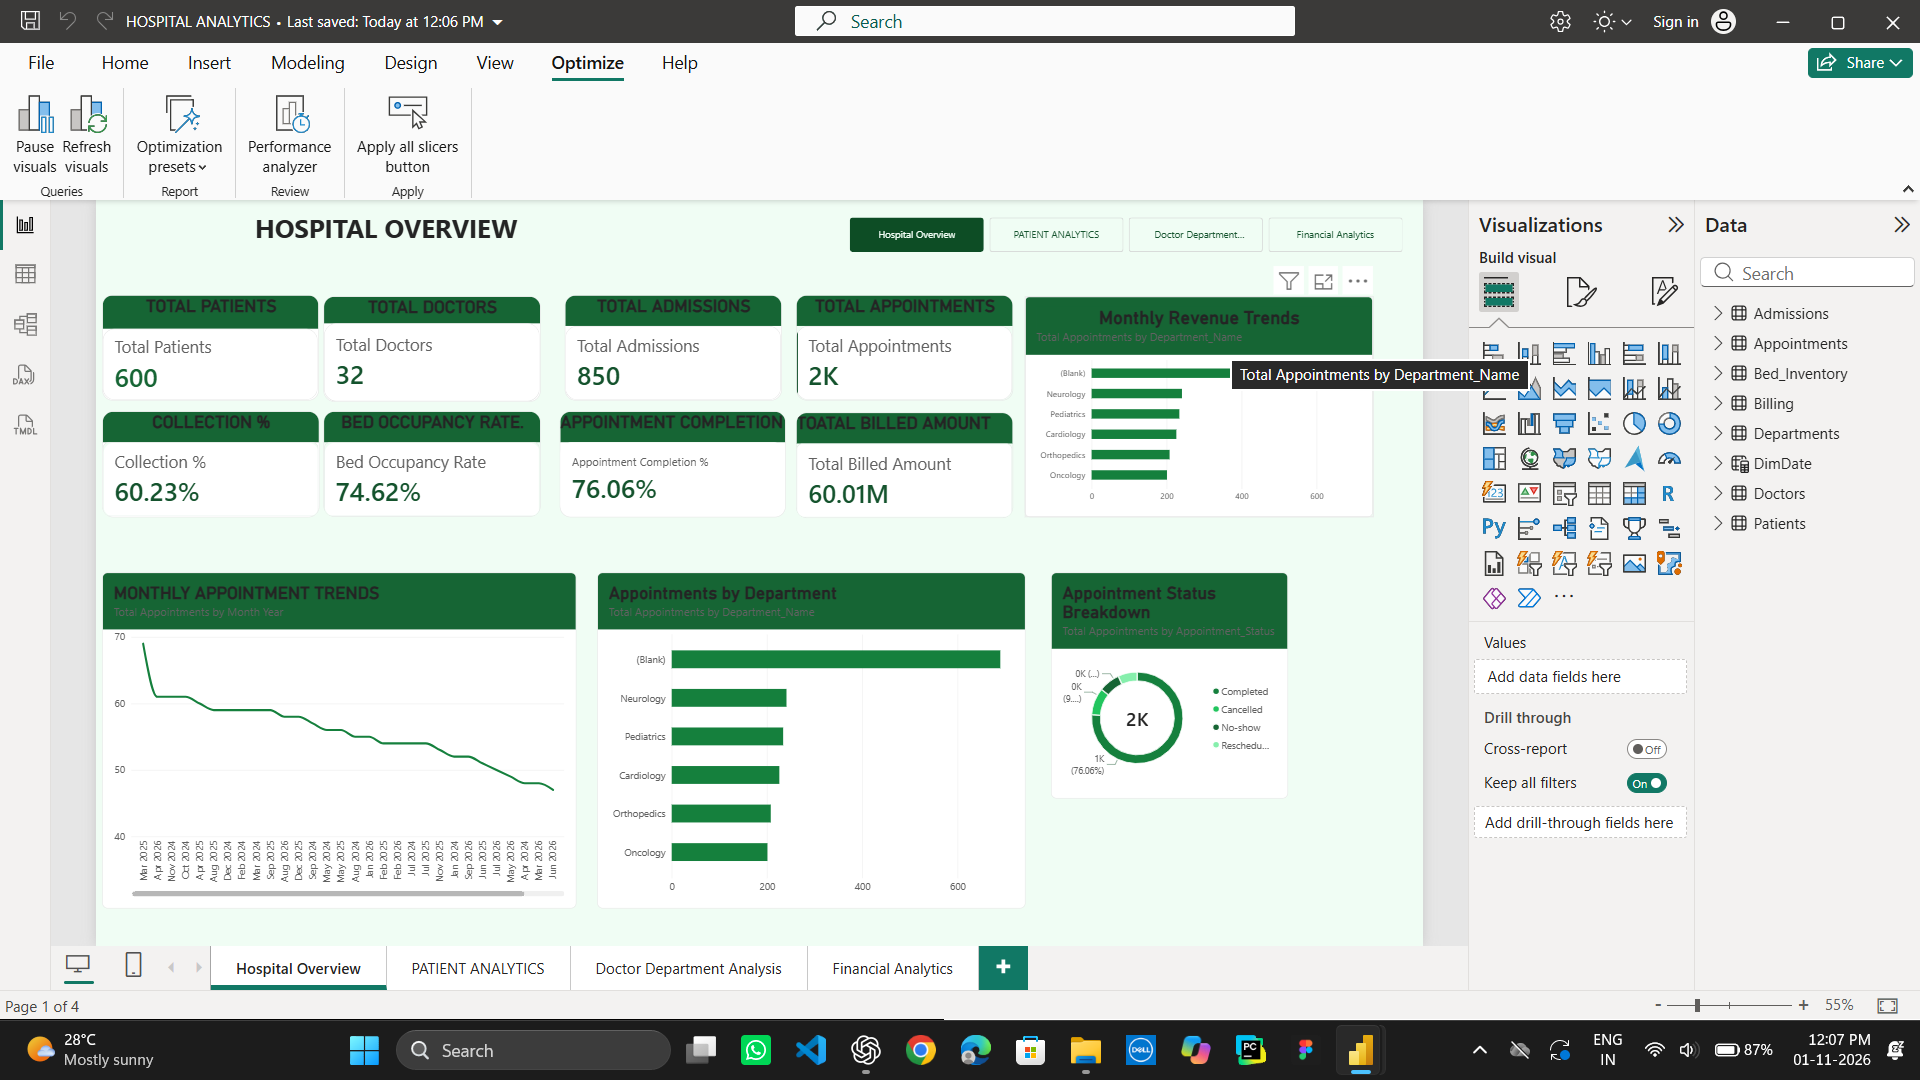

This screenshot's page, from the dashboard's own definition file:
{"tool":"powerbi","page":{"name":"Hospital Overview","canvas":[1920,1080],"ordinal":0},"visuals":[{"type":"cardVisual","title":"TOTAL PATIENTS","fields":{"Data":["Patients.Total Patients"]},"box":[9.2,137.7,314,153.1],"z":0},{"type":"cardVisual","title":"TOTAL DOCTORS","fields":{"Data":["Doctors.Total Doctors"]},"box":[329.4,139.2,314,153],"z":1000},{"type":"cardVisual","title":"TOTAL ADMISSIONS","fields":{"Data":["Admissions.Total Admissions"]},"box":[678.4,137.3,314,153],"z":2000},{"type":"cardVisual","title":"TOTAL APPOINTMENTS","fields":{"Data":["Appointments.Total Appointments"]},"box":[1013.7,137.3,314,153],"z":3000},{"type":"cardVisual","title":"TOATAL BILLED AMOUNT","fields":{"Data":["Billing.Total Billed Amount"]},"box":[1013.7,307.8,314,153],"z":4000},{"type":"cardVisual","title":"COLLECTION %","fields":{"Data":["Billing.Collection %"]},"box":[9.2,306.7,314.2,153.3],"z":5000},{"type":"cardVisual","title":"BED OCCUPANCY RATE.","fields":{"Data":["Bed_Inventory.Bed Occupancy Rate"]},"box":[329.2,306.7,314,153],"z":6000},{"type":"cardVisual","title":"APPOINTMENT COMPLETION","fields":{"Data":["Appointments.Appointment Completion %"]},"box":[670.8,306.7,327.5,153.3],"z":7000},{"type":"lineChart","title":"MONTHLY APPOINTMENT TRENDS","fields":{"Category":["DimDate.Month Year"],"Y":["Appointments.Total Appointments"]},"box":[9.8,539.2,686.3,486.3],"z":8000},{"type":"clusteredBarChart","title":"Appointments by Department","fields":{"Category":["Departments.Department_Name"],"Y":["Appointments.Total Appointments"]},"box":[725.5,539.2,619.6,486.3],"z":9000},{"type":"donutChart","title":"Appointment Status Breakdown","fields":{"Category":["Appointments.Appointment_Status"],"Y":["Appointments.Total Appointments"]},"box":[1382.4,539.2,343.1,327.5],"z":10000},{"type":"clusteredBarChart","title":"Monthly Revenue Trends","fields":{"Category":["Departments.Department_Name"],"Y":["Appointments.Total Appointments"]},"box":[1345.1,139.2,503.9,319.6],"z":11000},{"type":"textbox","box":[259.8,0,1499.8,104.3],"z":12000},{"type":"textbox","box":[34,14,910,90],"z":13000},{"type":"pageNavigator","box":[1092,26,800,50],"z":13001}]}

Visuals, with their boxes on the page's 1920x1080 design canvas (x1, y1, x2, y2). These are canvas units, not pixel positions in the 1920x1080 screenshot, which may show the page scaled, cropped or inside an application window:
"TOTAL PATIENTS" cardVisual: [x1=9, y1=138, x2=323, y2=291]
"TOTAL DOCTORS" cardVisual: [x1=329, y1=139, x2=643, y2=292]
"TOTAL ADMISSIONS" cardVisual: [x1=678, y1=137, x2=992, y2=290]
"TOTAL APPOINTMENTS" cardVisual: [x1=1014, y1=137, x2=1328, y2=290]
"TOATAL BILLED AMOUNT" cardVisual: [x1=1014, y1=308, x2=1328, y2=461]
"COLLECTION %" cardVisual: [x1=9, y1=307, x2=323, y2=460]
"BED OCCUPANCY RATE." cardVisual: [x1=329, y1=307, x2=643, y2=460]
"APPOINTMENT COMPLETION" cardVisual: [x1=671, y1=307, x2=998, y2=460]
"MONTHLY APPOINTMENT TRENDS" lineChart: [x1=10, y1=539, x2=696, y2=1026]
"Appointments by Department" clusteredBarChart: [x1=726, y1=539, x2=1345, y2=1026]
"Appointment Status Breakdown" donutChart: [x1=1382, y1=539, x2=1726, y2=867]
"Monthly Revenue Trends" clusteredBarChart: [x1=1345, y1=139, x2=1849, y2=459]
textbox: [x1=260, y1=0, x2=1760, y2=104]
textbox: [x1=34, y1=14, x2=944, y2=104]
pageNavigator: [x1=1092, y1=26, x2=1892, y2=76]
